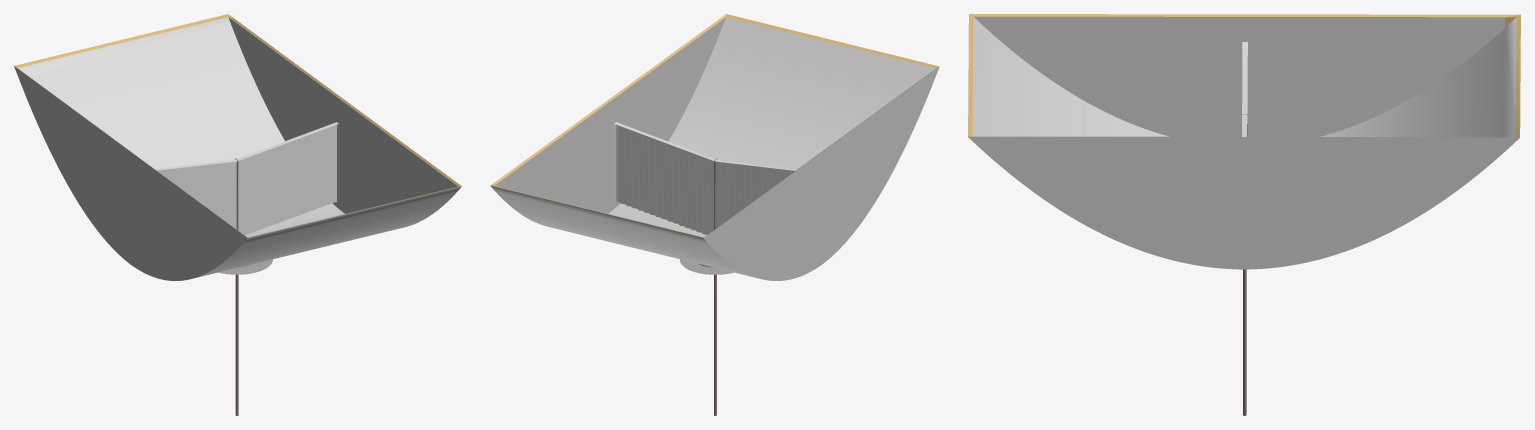
The model's file is Boat_Radiator.glb.
3 views of the same model, side by side, from view 1: azimuth 30°, elevation 25°; view 2: azimuth 150°, elevation 25°; view 3: azimuth 270°, elevation 25° (orthographic). The views are drawn at different scales.
Parts seen in each view (by area): view 1: RotatingRad_Base_LOD1; view 2: RotatingRad_Base_LOD1; view 3: RotatingRad_Base_LOD1.
Boxes of the visible parts, box(x1,y1,x2,y2) form: RotatingRad_Base_LOD1: box(14, 14, 461, 415); RotatingRad_Base_LOD1: box(490, 14, 939, 415); RotatingRad_Base_LOD1: box(968, 14, 1520, 415).
Size of what is drawn, in the model's own units: 22.8 by 29.32 by 43.23.
